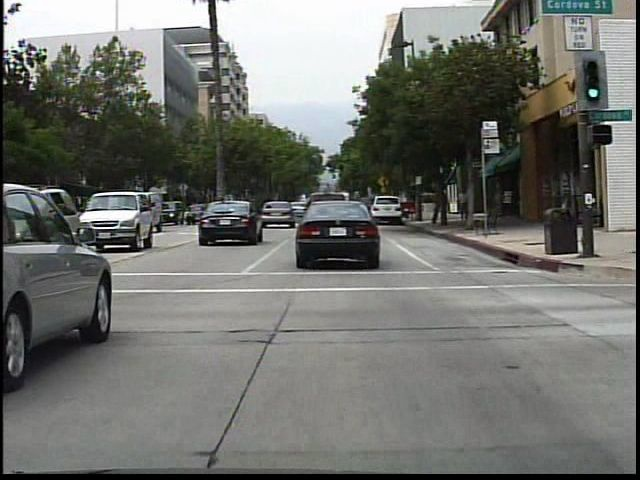person: (456, 185, 476, 225)
